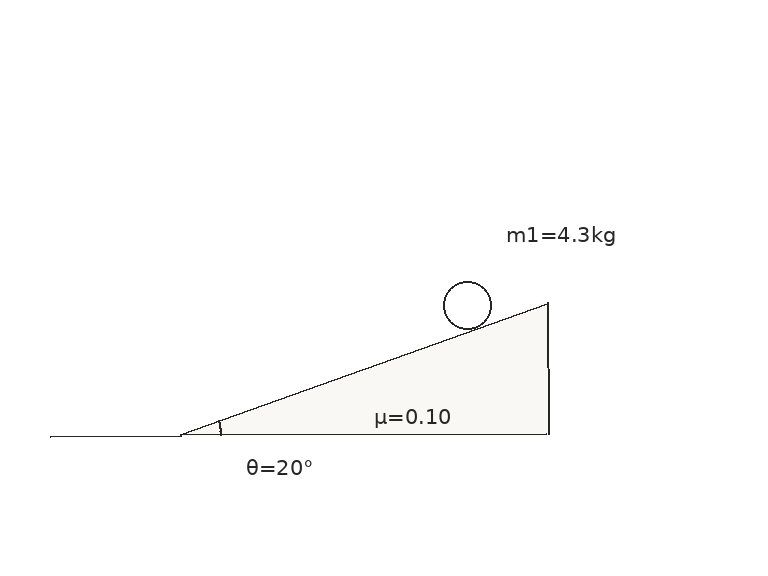ball: (441, 279, 493, 331)
ramp: (179, 300, 549, 437)
